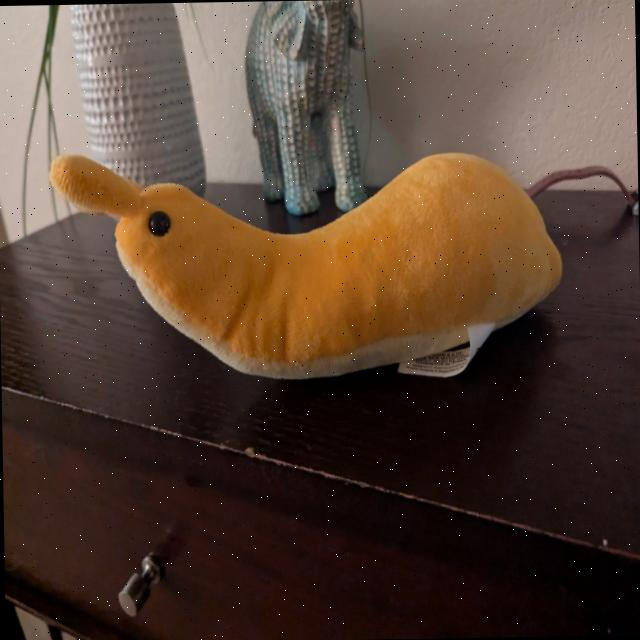banana-slug-toy: (35, 126, 588, 392)
